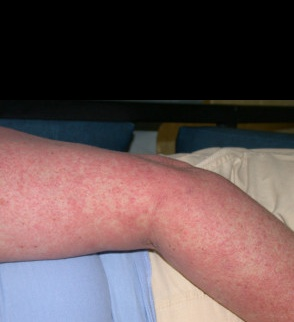SJS-TEN: (0, 112, 294, 322)
